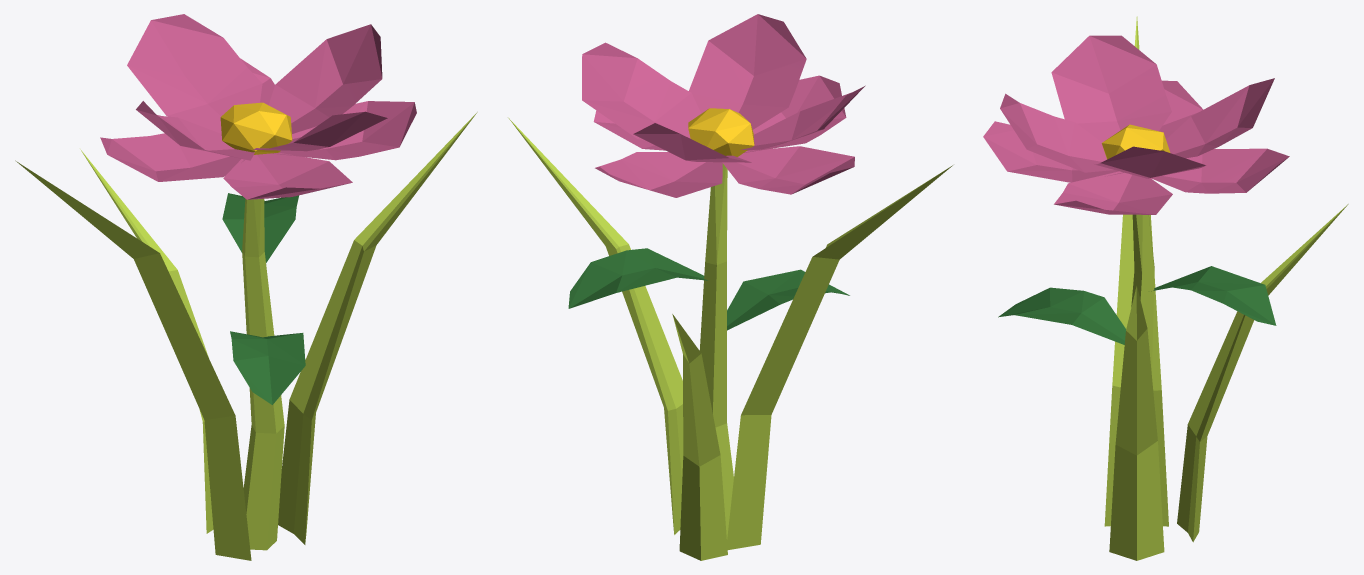
The model's file is flower_interactable.fbx.
3 views of the same model, side by side, from view 1: azimuth 30°, elevation 25°; view 2: azimuth 150°, elevation 25°; view 3: azimuth 270°, elevation 25° (orthographic). The views are drawn at different scales.
Parts seen in each view (by area): view 1: flower_interactable; view 2: flower_interactable; view 3: flower_interactable.
Part boxes in pixels (<box>): flower_interactable: <box>15,14,477,560</box>; flower_interactable: <box>508,14,952,560</box>; flower_interactable: <box>983,16,1348,560</box>.
Size of the model in its own units: 184 by 182 by 135.
